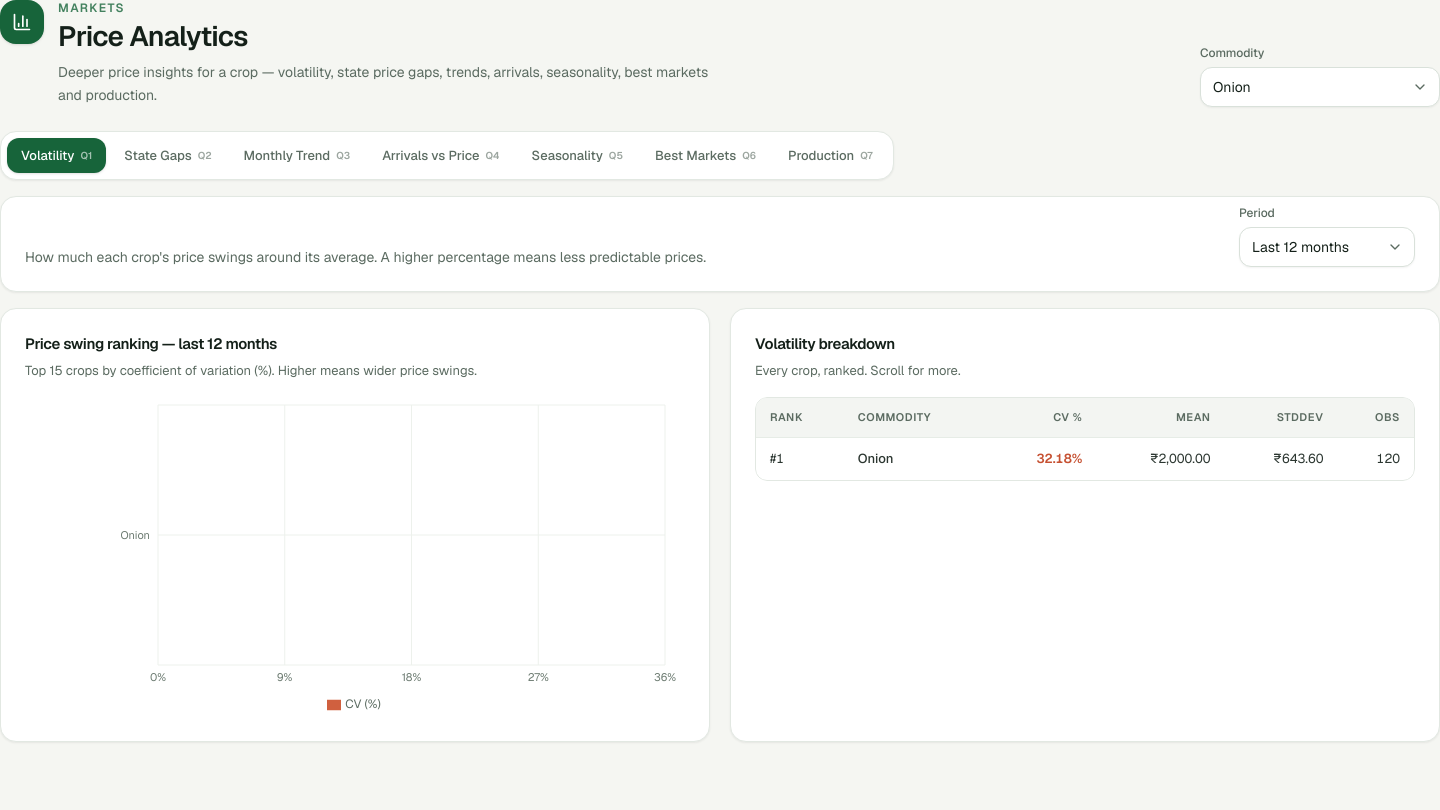
Test: Price Analytics Q2 filters › propagates year, month and states to the state-price-gaps API and shows refetch feedback
Later steps or results of the test are not shown.
Press the mouse on the tab "State Gaps Q2" at (168, 156), box x1=110 y1=138 x2=226 y2=173
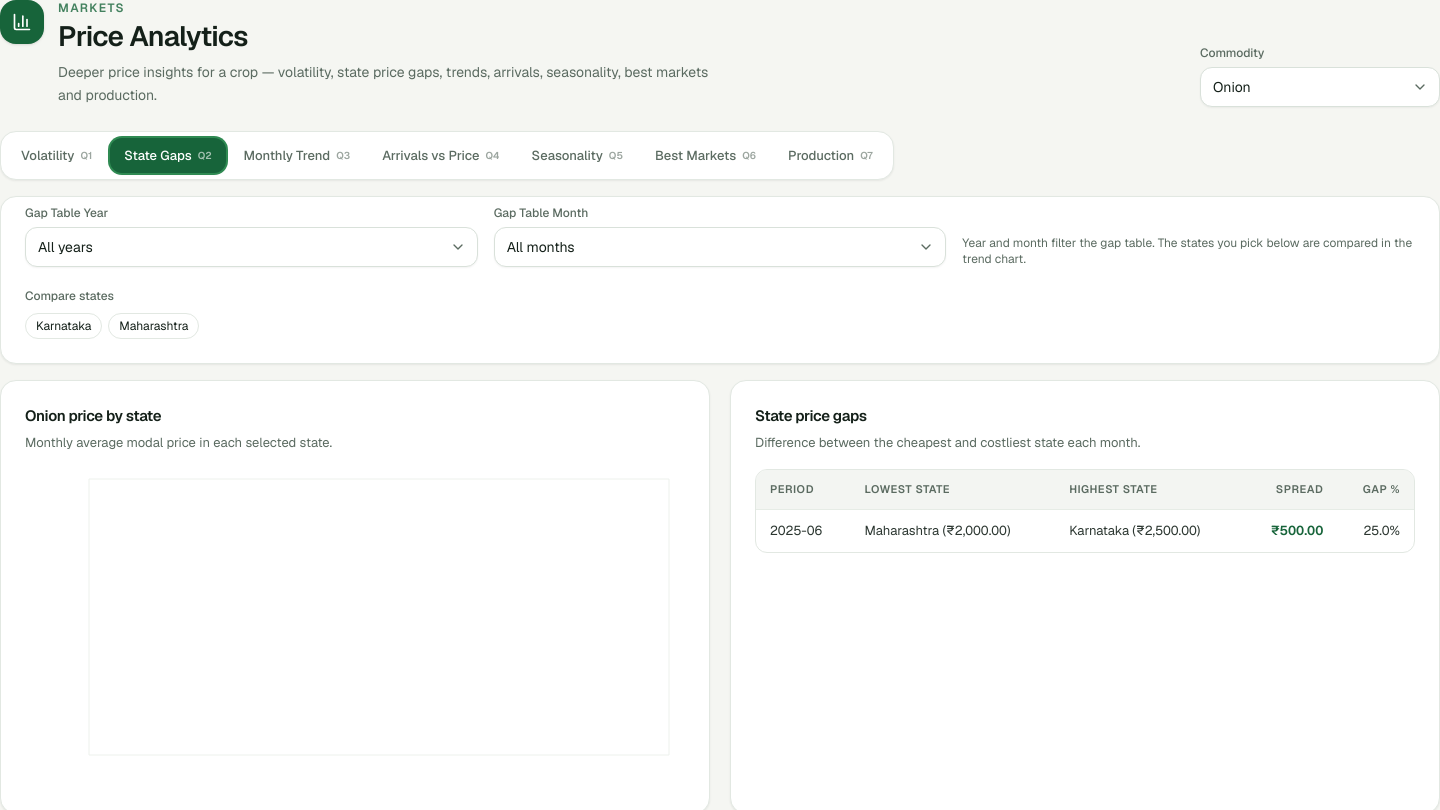
Check: the dropdown labelled "Gap Table Year" is shown
Select "2025" in the dropdown labelled "Gap Table Year" at (251, 247), box x1=25 y1=227 x2=478 y2=267
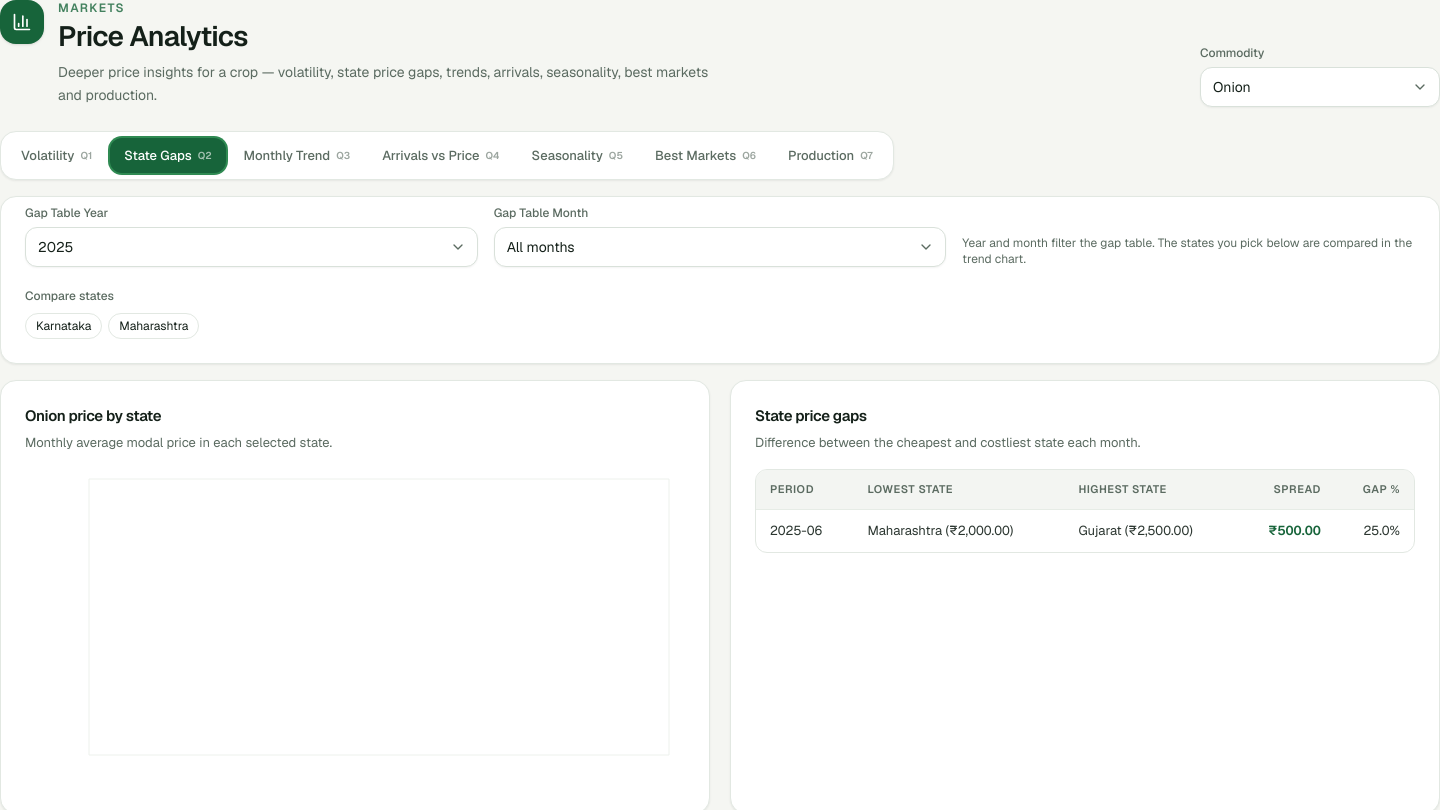
Check: the text "Gujarat (₹2,500.00)" is shown, box x1=1064 y1=510 x2=1237 y2=552
Click the button "Karnataka".
click(64, 326)  # box x1=25 y1=313 x2=102 y2=339
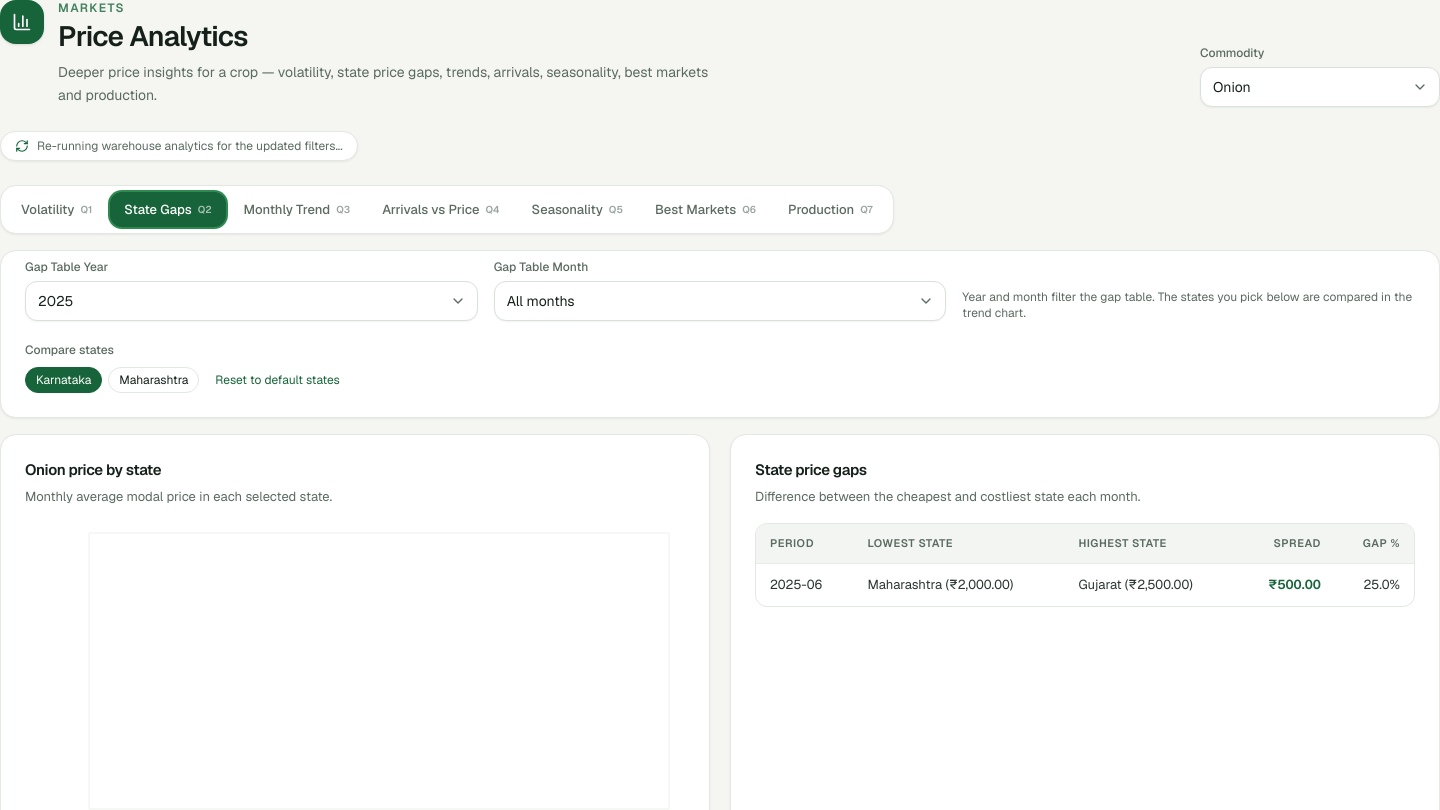
Check: the button "Karnataka" is pressed, box x1=25 y1=367 x2=102 y2=393
Select "Jun" in the dropdown labelled "Gap Table Month" at (720, 301), box x1=494 y1=281 x2=946 y2=321
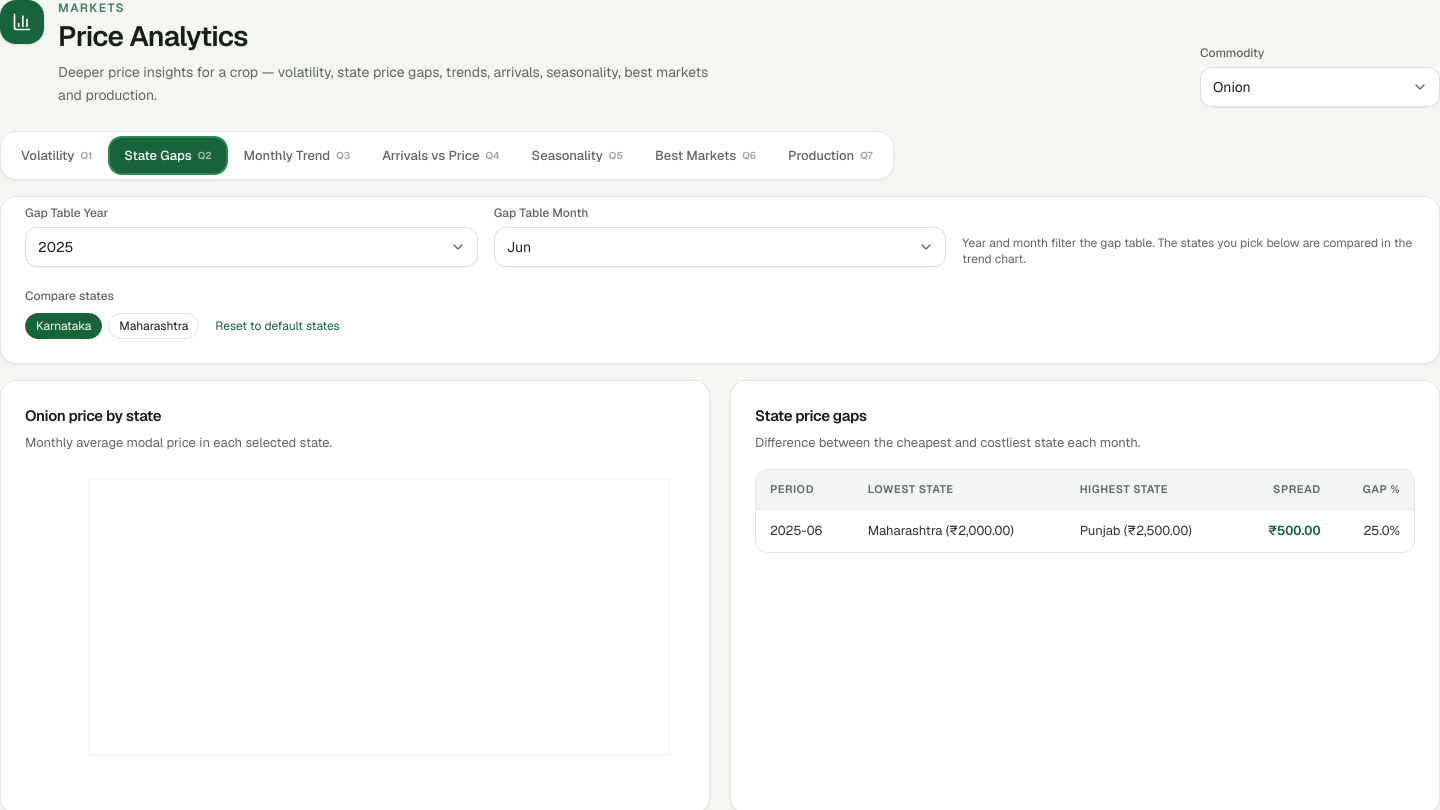
Check: the text "Punjab (₹2,500.00)" is shown, box x1=1066 y1=510 x2=1236 y2=552
Check: the text "Re-running warehouse analytics" is gone
